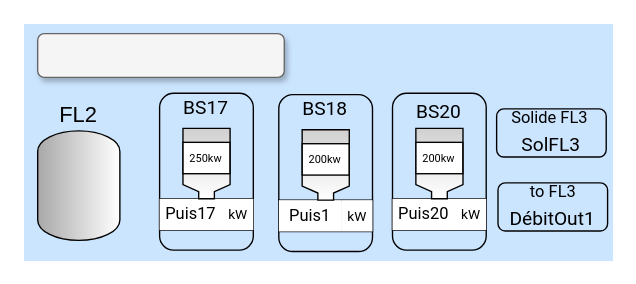
The diagram is 636 pixels wide and 284 high, and some of its shapes have lost their labels. Here are the shapes that lost their labels. From the top down, the centre of each, then its label:
pixel 161 57: Carbital 2 FL1
pixel 78 184: nivfl2
